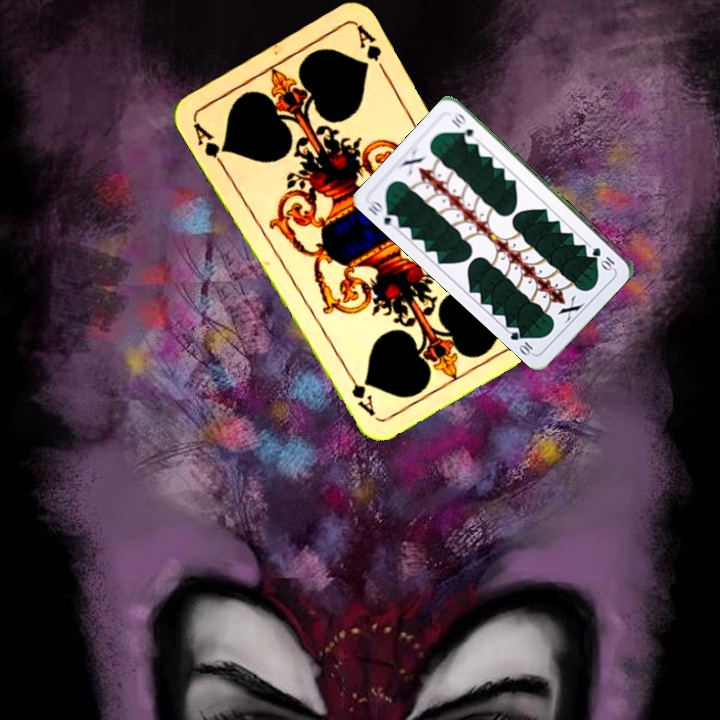G10: (363, 196, 402, 231), (589, 243, 617, 272)
GA: (188, 118, 232, 171)
